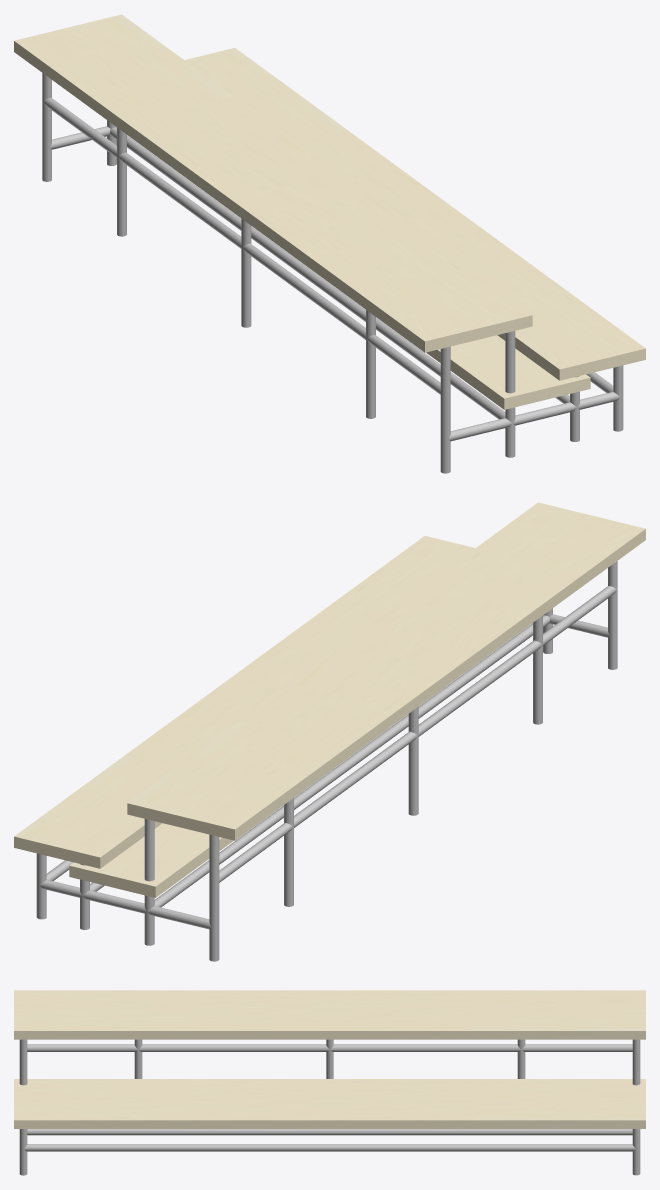
File: bleechers.fbx
The picture shows the model from 3 angles, top to bottom: view 1: azimuth 30°, elevation 25°; view 2: azimuth 150°, elevation 25°; view 3: azimuth 270°, elevation 25°; orthographic projection. The views are drawn at different scales.
Visible parts, largest first — view 1: Cube.001, Cube, Cylinder.016, Cube.002; view 2: Cube.001, Cube, Cylinder.016, Cube.002; view 3: Cube.001, Cube, Cylinder.016, Cube.002.
Boxes of the visible parts, bbox=[...] form: Cube.001: bbox=[14, 14, 532, 352]; Cube: bbox=[184, 48, 645, 380]; Cylinder.016: bbox=[42, 73, 623, 473]; Cube.002: bbox=[426, 335, 590, 409]; Cube.001: bbox=[127, 502, 645, 840]; Cube: bbox=[14, 536, 475, 868]; Cylinder.016: bbox=[36, 561, 617, 961]; Cube.002: bbox=[69, 823, 233, 897]; Cube.001: bbox=[14, 990, 645, 1039]; Cube: bbox=[14, 1088, 645, 1128]; Cylinder.016: bbox=[19, 1039, 640, 1175]; Cube.002: bbox=[14, 1079, 645, 1087].
Bounding box in the file's own units: 1025 × 626 × 3300.
